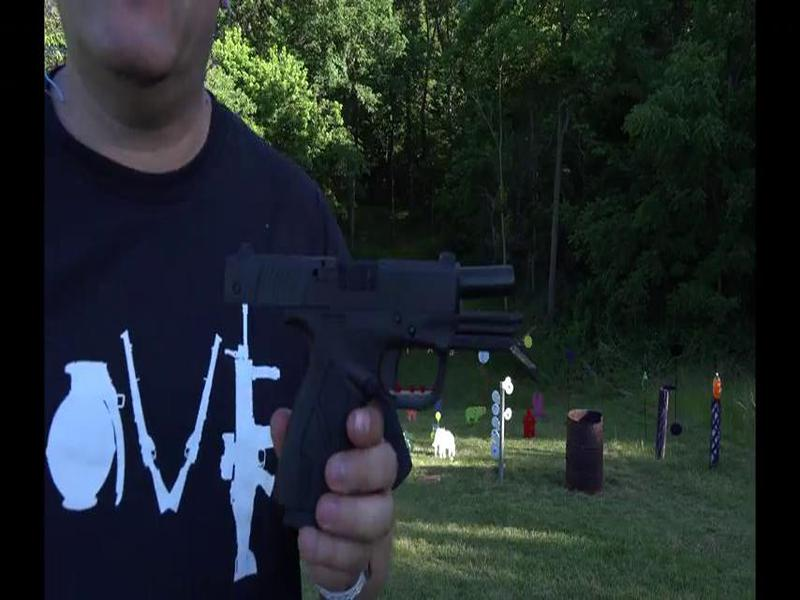Pistola: (202, 236, 534, 550)
